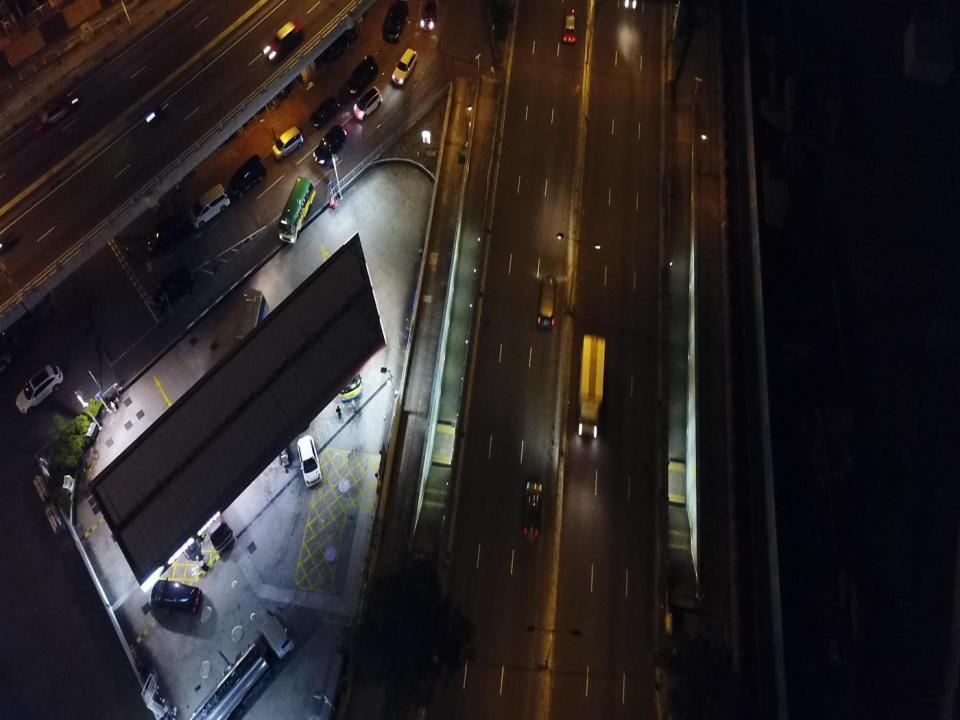bus: (225, 288, 269, 416), (329, 305, 363, 399), (277, 174, 315, 246)
car: (14, 366, 66, 417), (262, 17, 304, 63), (34, 91, 81, 129), (154, 266, 194, 310), (520, 477, 544, 546), (295, 433, 324, 488), (313, 124, 348, 168), (345, 55, 380, 94), (536, 268, 557, 330), (270, 126, 304, 162), (266, 61, 296, 99), (228, 92, 258, 130), (382, 0, 408, 43), (330, 11, 360, 48), (314, 27, 344, 64), (248, 74, 278, 111), (209, 107, 239, 144), (391, 48, 418, 88), (354, 86, 382, 120), (560, 1, 580, 48), (310, 97, 339, 126), (420, 0, 438, 32), (0, 230, 22, 250)
truck: (185, 615, 294, 719), (194, 474, 236, 556), (577, 334, 607, 441), (152, 578, 202, 618)
van: (188, 184, 230, 226), (232, 156, 267, 198), (148, 216, 185, 251)
